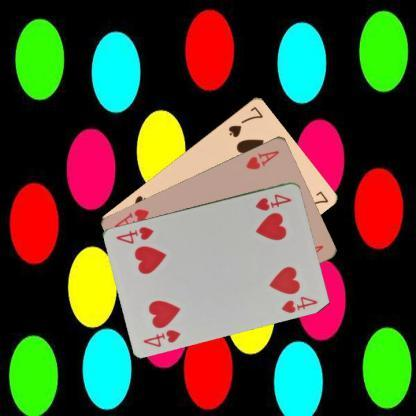4h: (141, 326, 182, 348), (252, 190, 292, 212)
7s: (226, 104, 265, 139)
Ah: (243, 147, 280, 170)
